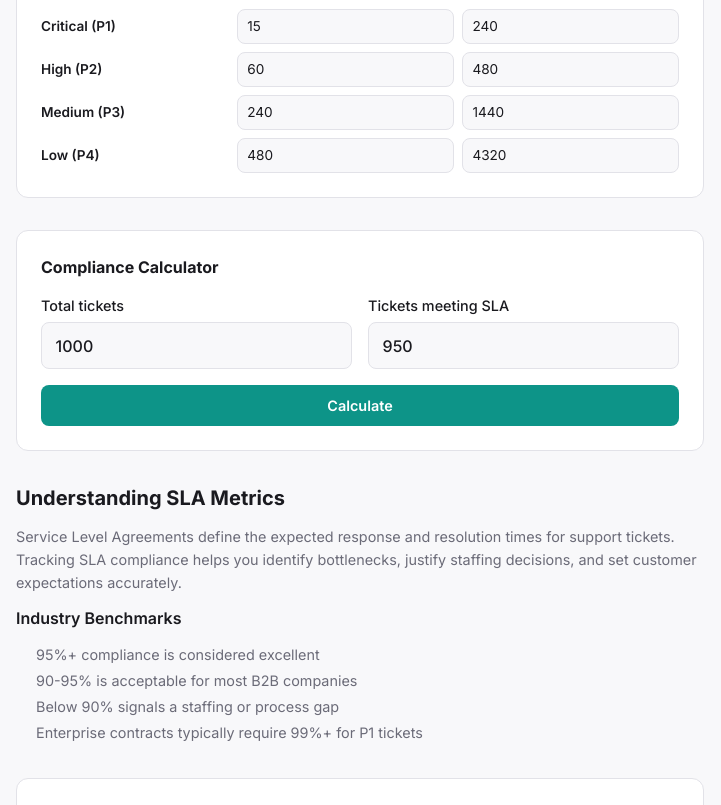
Test: SLACalculatorPage › calculates compliance on button click
This screenshot has width=721, height=805.
(page scrolled)
Click the button "Calculate" at point(360, 406), box [41,385,679,426]
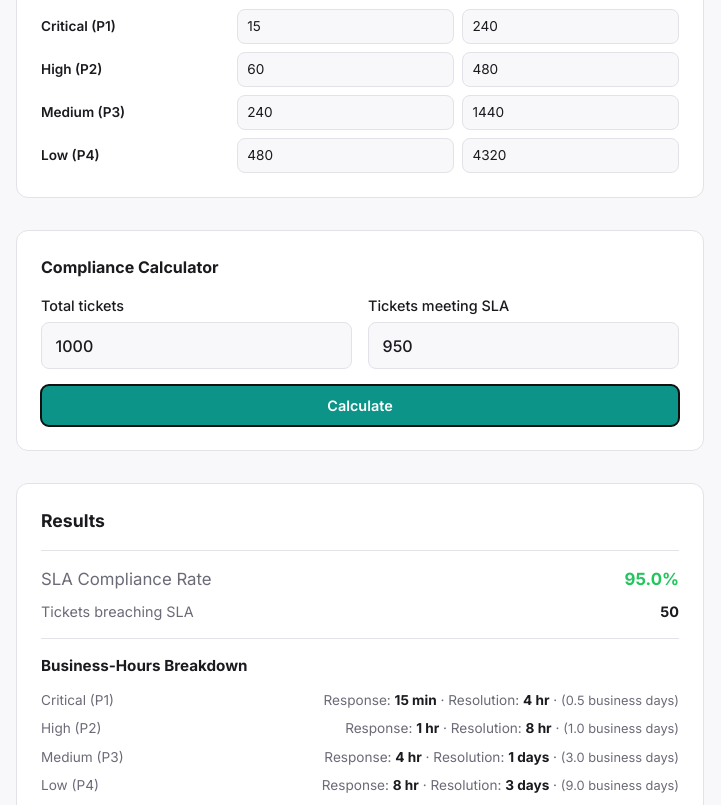
Expected: the heading "Results" is shown, [41,510,105,531]
Expected: the text "SLA Compliance Rate" is shown, [41,567,212,593]
